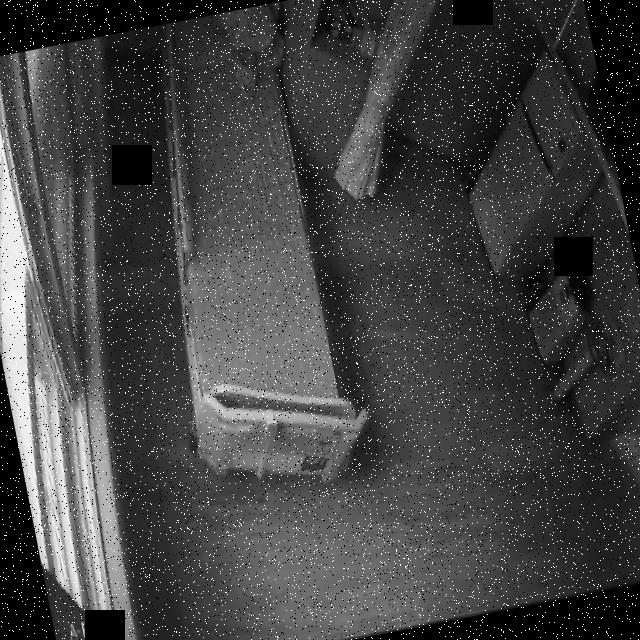bed: (120, 2, 364, 494)
